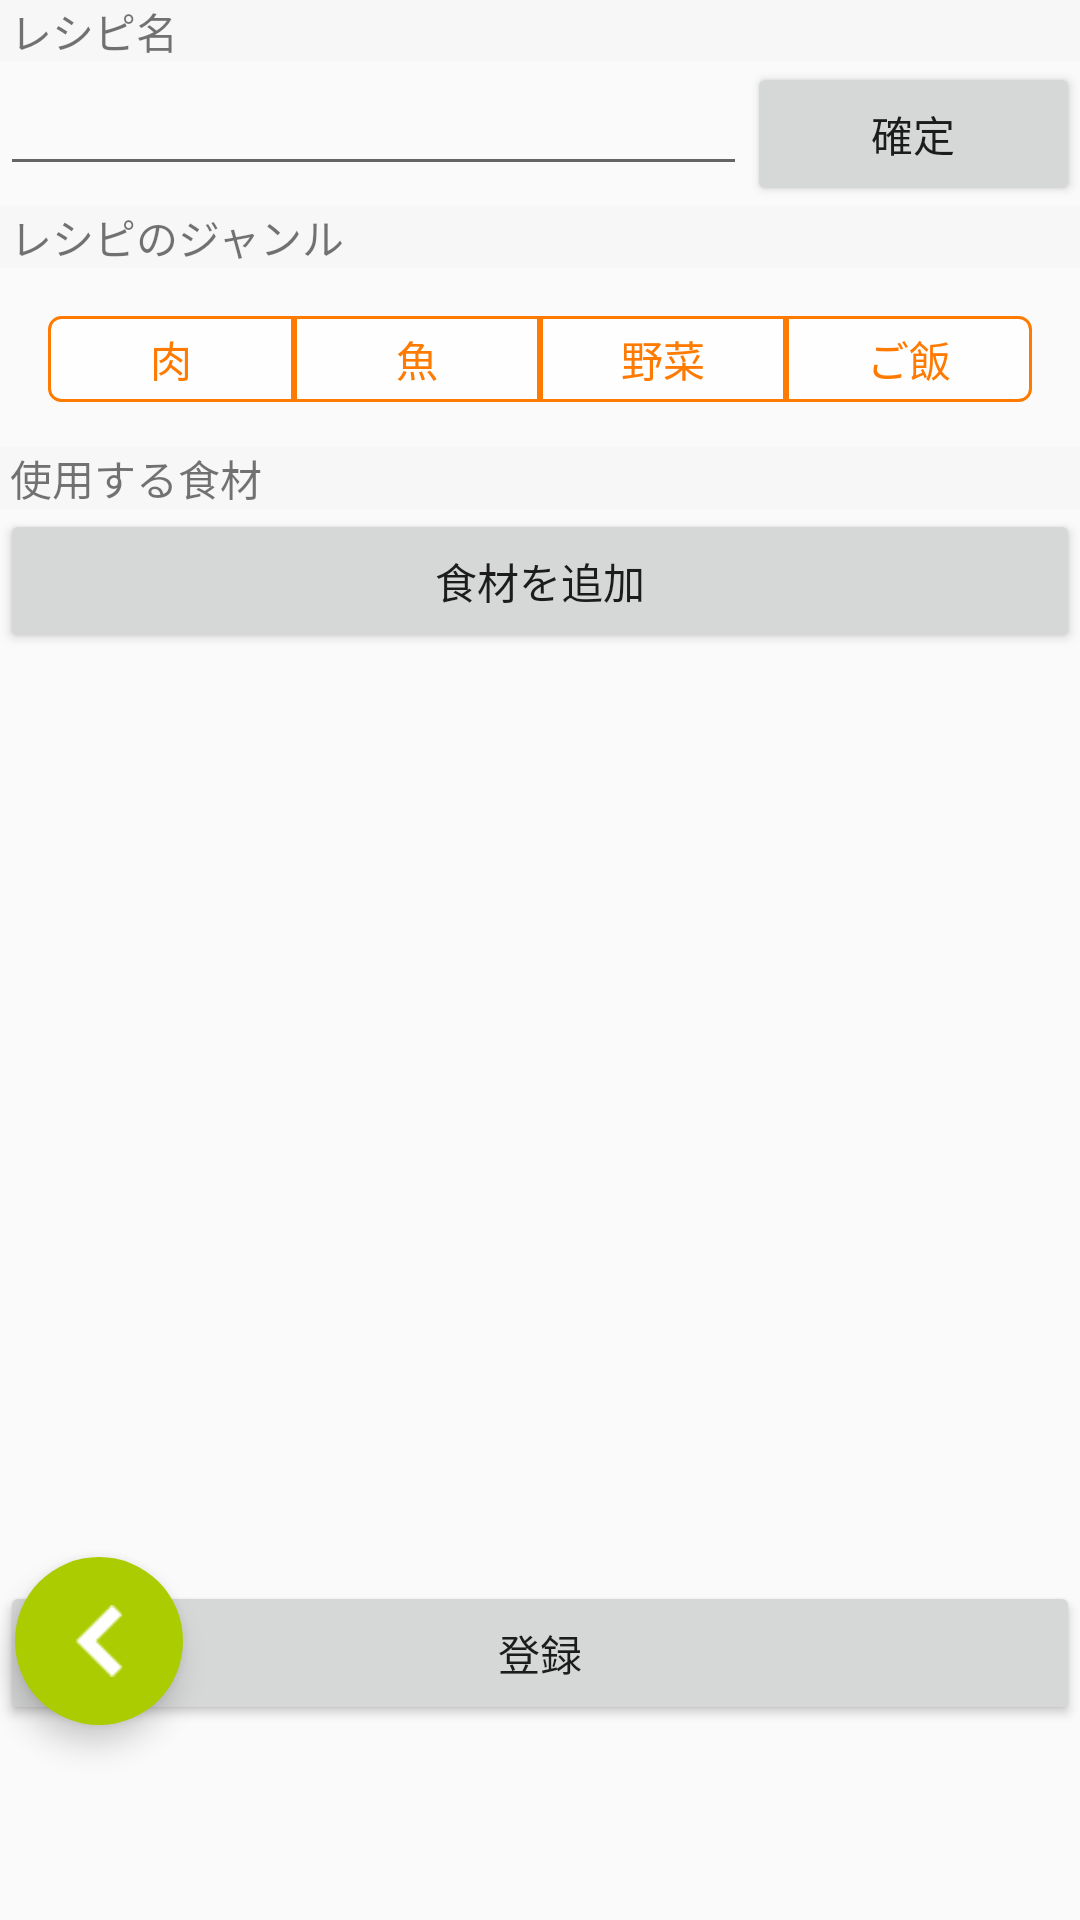

Where to tap for icons on this 1080×1920 app screen, as (x,y):
return: (99,1641)
